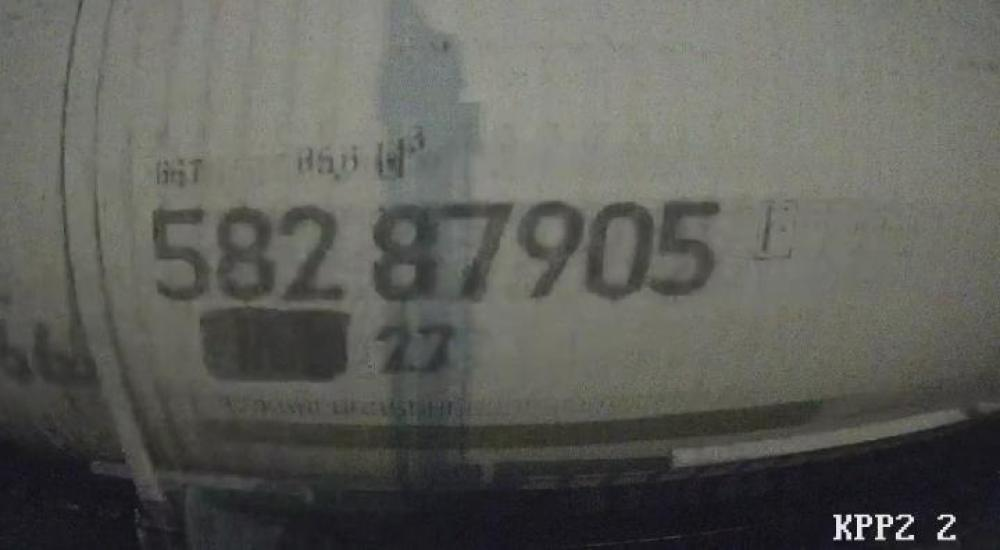Wagon-number: (144, 198, 720, 307)
